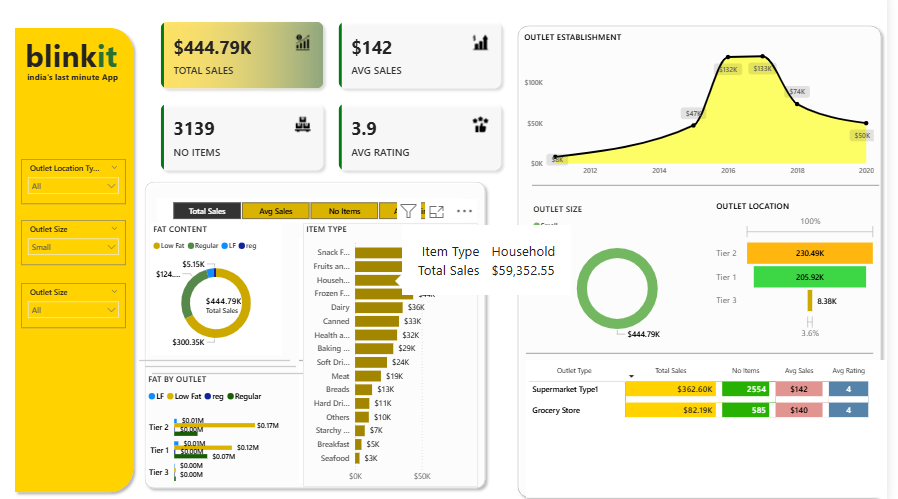

Layout of this report page (visuals, bound fields, positions):
{"tool":"powerbi","page":{"name":"Page 1","canvas":[1400,800],"ordinal":0},"visuals":[{"type":"shape","box":[17.3,42.5,204.7,749.6],"z":0},{"type":"textbox","box":[40.9,115,162.2,33.1],"z":1000},{"type":"textbox","box":[269.3,515,204.7,118.1],"z":2000},{"type":"textbox","box":[37.8,56.7,165.4,91.3],"z":3000},{"type":"cardVisual","fields":{"Data":["BlinkIT Grocery Data.Total Sales","BlinkIT Grocery Data.Avg Sales","BlinkIT Grocery Data.No Items","BlinkIT Grocery Data.Avg Rating"]},"box":[239.4,25.2,570.1,269.3],"z":4000},{"type":"shape","box":[222,285,554.3,500.8],"z":5000},{"type":"donutChart","title":" FAT CONTENT","fields":{"Y":["BlinkIT Grocery Data.Total Sales"],"Category":["BlinkIT Grocery Data.Item Fat Content"]},"box":[239.4,359.1,207.9,207.9],"z":6000},{"type":"slicer","fields":{"Values":["Metrics.Metrics"]},"box":[250.4,319.7,480.3,39.4],"z":7000},{"type":"cardVisual","fields":{"Data":["BlinkIT Grocery Data.Total Sales"]},"box":[310.2,442.5,121.3,92.9],"z":8000},{"type":"clusteredBarChart","title":"FAT BY OUTLET","fields":{"Y":["BlinkIT Grocery Data.Total Sales"],"Category":["BlinkIT Grocery Data.Outlet Location Type"],"Series":["BlinkIT Grocery Data.Item Fat Content"]},"box":[231.5,595.3,215.7,190.6],"z":9000},{"type":"shape","box":[222,568.5,237.8,14.2],"z":10000},{"type":"shape","box":[474,382.7,6.3,385.8],"z":11000},{"type":"barChart","title":"ITEM TYPE","fields":{"Category":["BlinkIT Grocery Data.Item Type"],"Y":["BlinkIT Grocery Data.Total Sales"]},"box":[480,358.3,276.7,416.7],"z":12000},{"type":"shape","box":[809.4,39.4,590.6,760.6],"z":13000},{"type":"lineChart","title":"OUTLET ESTABLISHMENT","fields":{"Y":["BlinkIT Grocery Data.Total Sales"],"Category":["BlinkIT Grocery Data.Outlet Establishment Year"]},"box":[823.6,56.7,560.6,237.8],"z":14000},{"type":"shape","box":[232,578.5,237.8,14.2],"z":15000},{"type":"shape","box":[242,588.5,237.8,14.2],"z":16000},{"type":"shape","box":[841.7,175,546.7,250],"z":17000},{"type":"donutChart","title":"OUTLET SIZE","fields":{"Y":["BlinkIT Grocery Data.Total Sales"],"Series":["BlinkIT Grocery Data.Outlet Size"]},"box":[837.8,327.6,275,225],"z":18000},{"type":"funnel","title":"OUTLET LOCATION","fields":{"Category":["BlinkIT Grocery Data.Outlet Location Type"],"Y":["Sum(BlinkIT Grocery Data.Sales)"]},"box":[1126.7,323.3,261.7,225],"z":19000},{"type":"shape","box":[831.7,440,546.7,250],"z":20000},{"type":"pivotTable","fields":{"Rows":["BlinkIT Grocery Data.Outlet Type"],"Values":["BlinkIT Grocery Data.Total Sales","BlinkIT Grocery Data.No Items","BlinkIT Grocery Data.Avg Sales","BlinkIT Grocery Data.Avg Rating"]},"box":[831.7,575,568.3,216.7],"z":21000},{"type":"slicer","fields":{"Values":["BlinkIT Grocery Data.Outlet Location Type"]},"box":[36.2,258.3,165.4,70.9],"z":22000},{"type":"slicer","fields":{"Values":["BlinkIT Grocery Data.Outlet Size"]},"box":[36.2,453.5,165.4,70.9],"z":23000},{"type":"slicer","fields":{"Values":["BlinkIT Grocery Data.Outlet Size"]},"box":[36.2,354.3,165.4,70.9],"z":24000}]}

Visuals, with their boxes in screenshot pixels (x1, y1, x2, y2), scaled from the page's 1400x800 canvas onto the 898x499 screenshot:
shape: 11 27 142 494
textbox: 26 72 130 92
textbox: 173 321 304 395
textbox: 24 35 130 92
cardVisual - BlinkIT Grocery Data.Total Sales x BlinkIT Grocery Data.Avg Sales: 154 16 519 184
shape: 142 178 498 490
" FAT CONTENT" donutChart: 154 224 287 354
slicer - Metrics.Metrics: 161 199 469 224
cardVisual - BlinkIT Grocery Data.Total Sales: 199 276 277 334
"FAT BY OUTLET" clusteredBarChart: 148 371 287 490
shape: 142 355 295 363
shape: 304 239 308 479
"ITEM TYPE" barChart: 308 223 485 483
shape: 519 25 897 498
"OUTLET ESTABLISHMENT" lineChart: 528 35 888 184
shape: 149 361 301 370
shape: 155 367 308 376
shape: 540 109 891 265
"OUTLET SIZE" donutChart: 537 204 714 345
"OUTLET LOCATION" funnel: 723 202 891 342
shape: 533 274 884 430
pivotTable - BlinkIT Grocery Data.Outlet Type x BlinkIT Grocery Data.Total Sales: 533 359 897 494
slicer - BlinkIT Grocery Data.Outlet Location Type: 23 161 129 205
slicer - BlinkIT Grocery Data.Outlet Size: 23 283 129 327
slicer - BlinkIT Grocery Data.Outlet Size: 23 221 129 265
